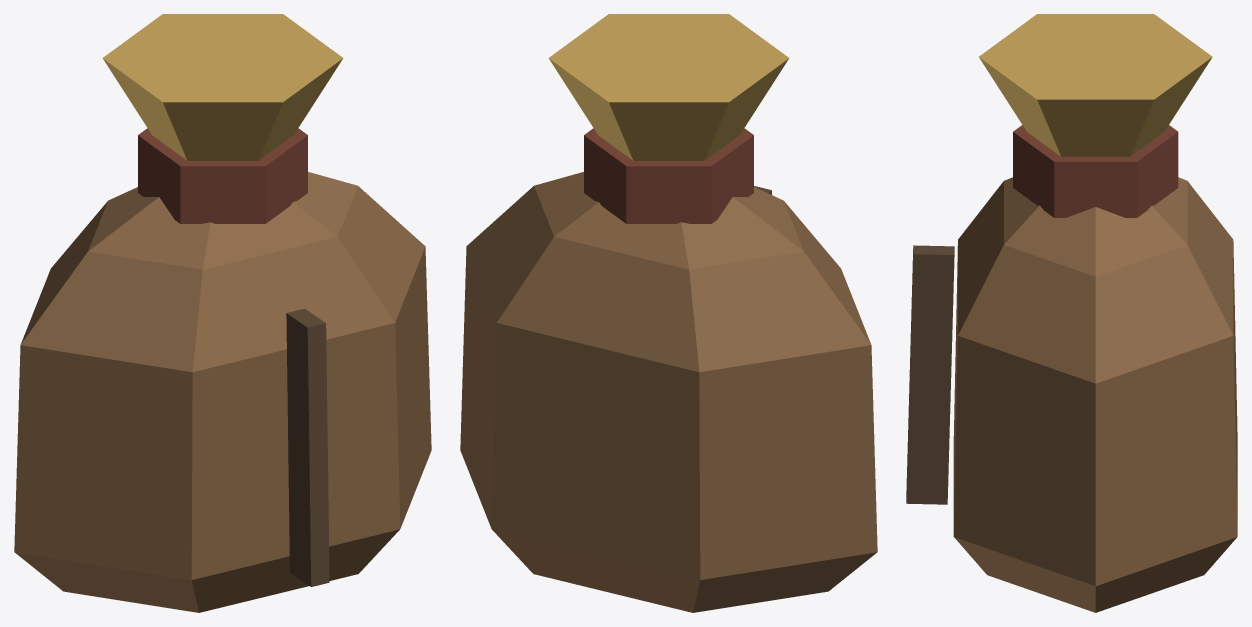
Rendered from villager-cargo-grain.glb.
3 views of the same model, side by side, from view 1: azimuth 30°, elevation 25°; view 2: azimuth 150°, elevation 25°; view 3: azimuth 270°, elevation 25° (orthographic). The views are drawn at different scales.
Visible parts, largest first — view 1: villager-cargo-grain; view 2: villager-cargo-grain; view 3: villager-cargo-grain.
Boxes of the visible parts, box(x1,y1,x2,y2) form: villager-cargo-grain: box(14, 14, 431, 612); villager-cargo-grain: box(460, 14, 877, 612); villager-cargo-grain: box(906, 14, 1237, 612).
Bounding box in the file's own units: 0.68 × 0.77 × 0.4811.
1 material, 1 textured.
